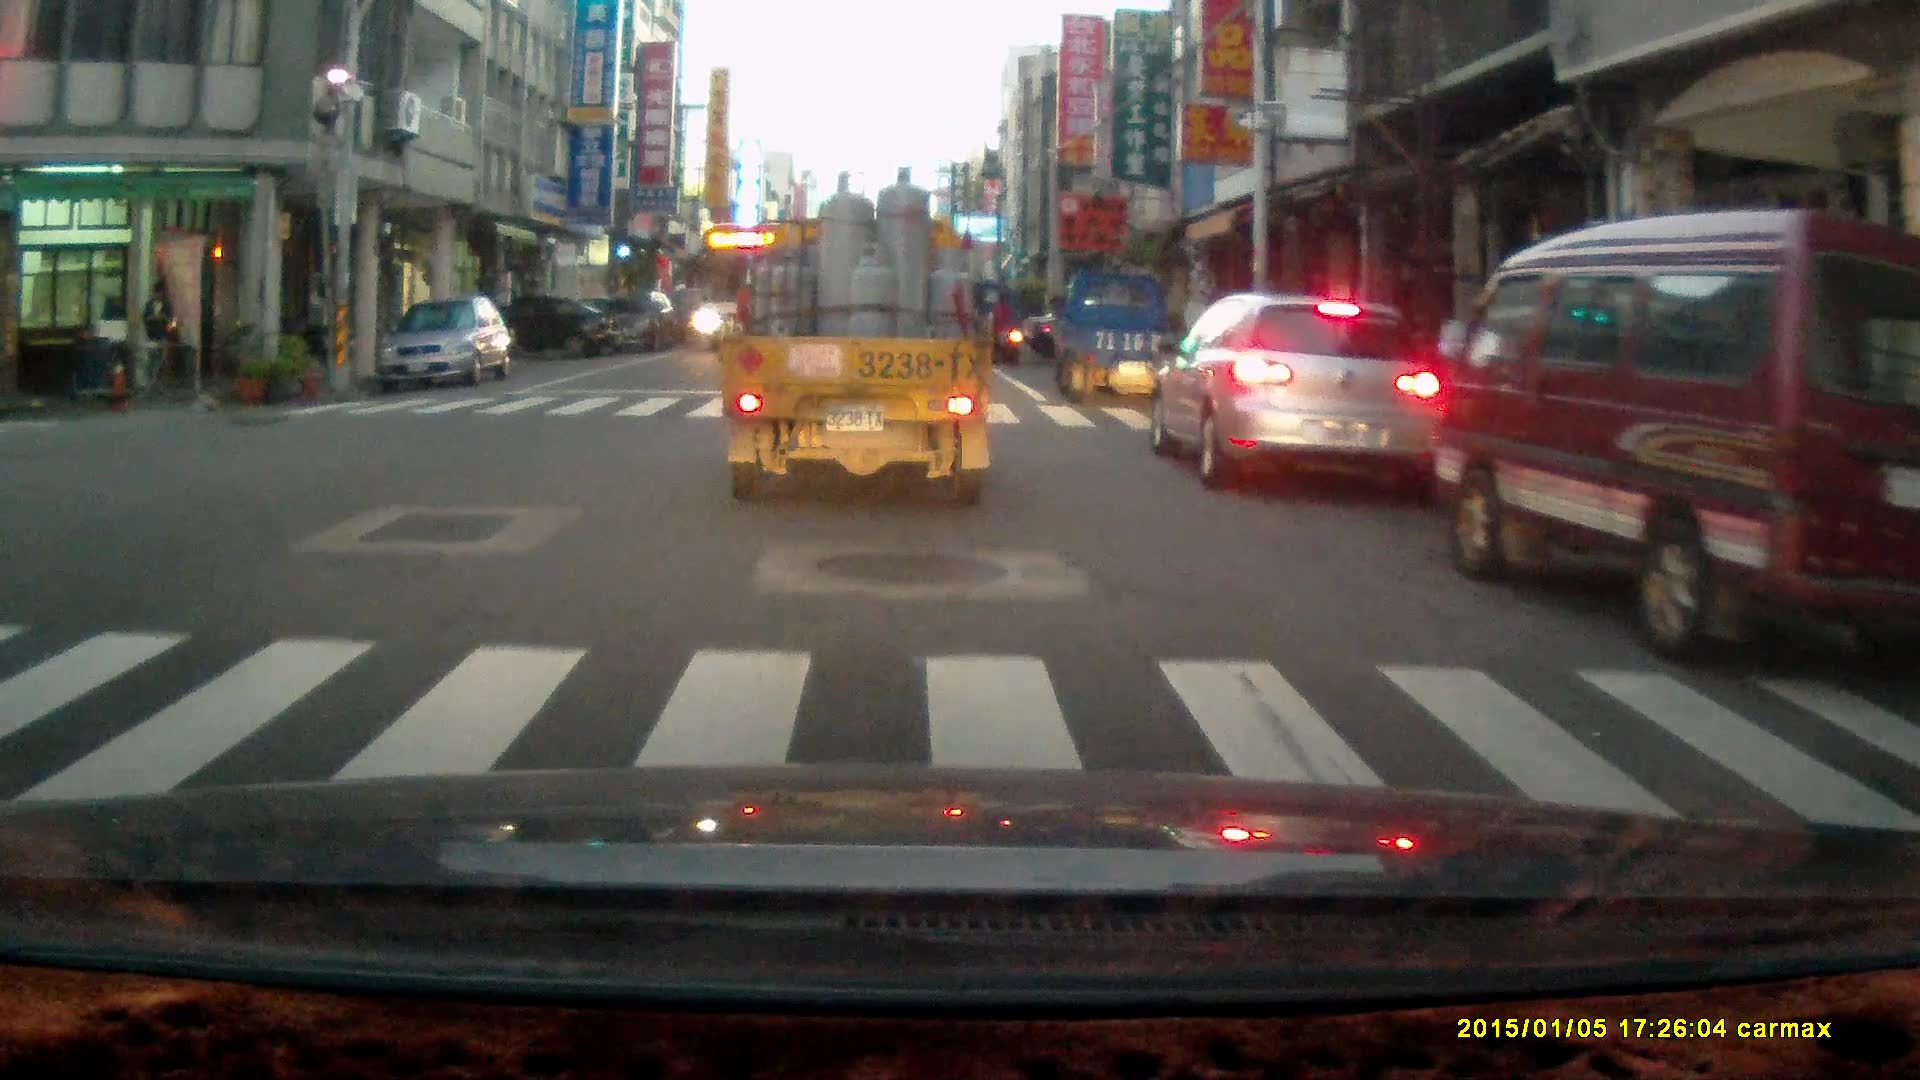pedestrian: (139, 279, 176, 402)
vehicle: (1433, 208, 1920, 671), (721, 169, 995, 512), (1152, 288, 1438, 496), (1053, 272, 1195, 412), (372, 297, 512, 390), (454, 293, 617, 362), (582, 284, 676, 352)
